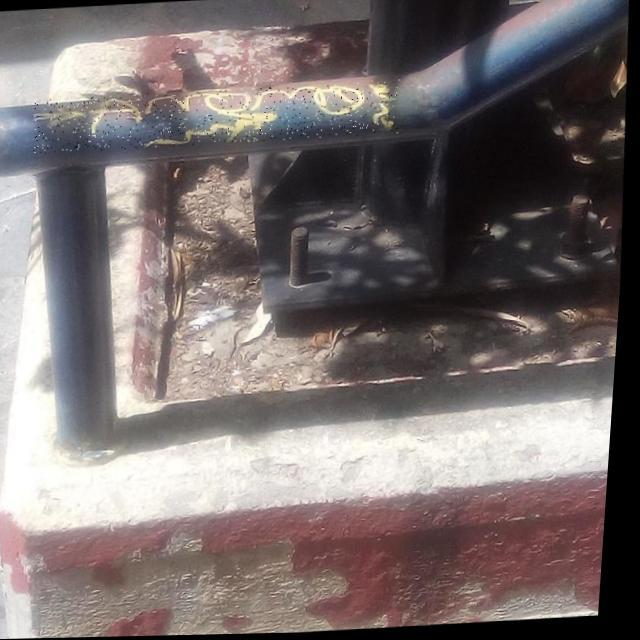-: (32, 80, 402, 154)
